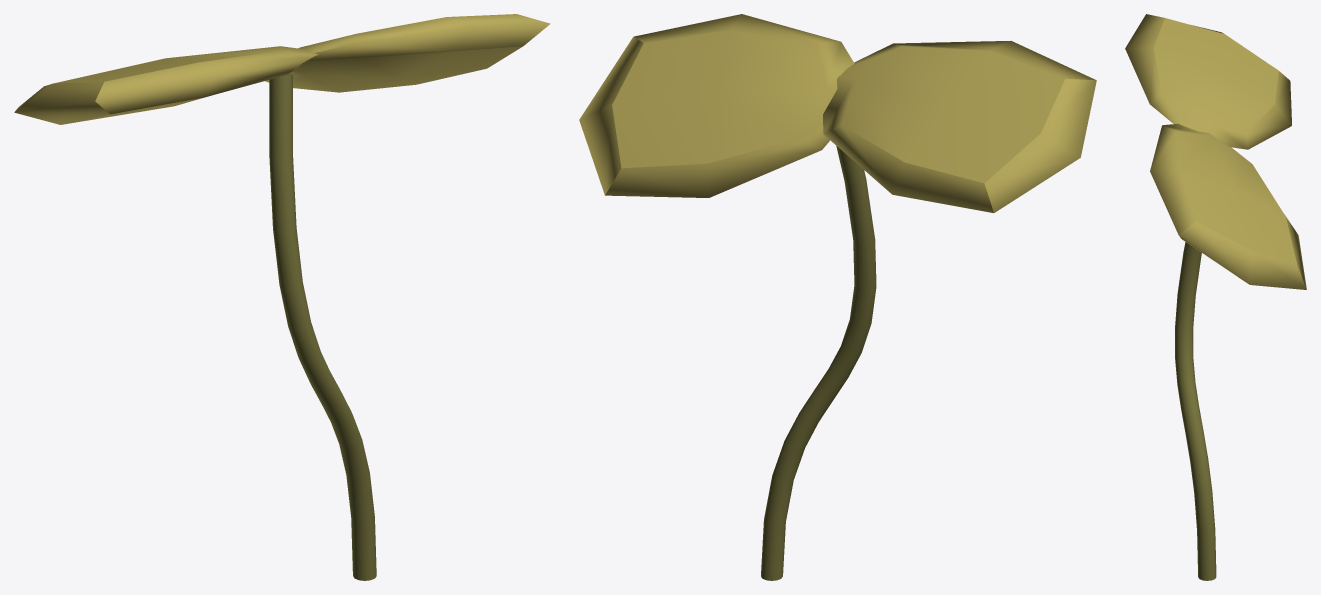
File: Clover3.fbx
The picture shows the model from 3 angles, left to right: view 1: azimuth 30°, elevation 25°; view 2: azimuth 150°, elevation 25°; view 3: azimuth 270°, elevation 25°; orthographic projection. The views are drawn at different scales.
Parts seen in each view (by area): view 1: Clover3; view 2: Clover3; view 3: Clover3.
Boxes of the visible parts, <box> form: Clover3: <box>14,14,550,580</box>; Clover3: <box>579,14,1096,580</box>; Clover3: <box>1125,14,1306,580</box>.
Size of the model in its own units: 202 by 218 by 79.35.
